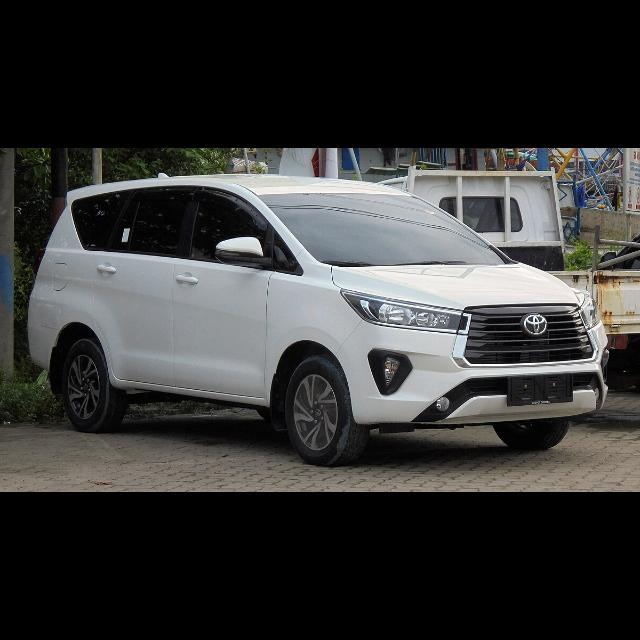number-plate: (503, 374, 573, 409)
vehicles: (28, 176, 608, 465)
